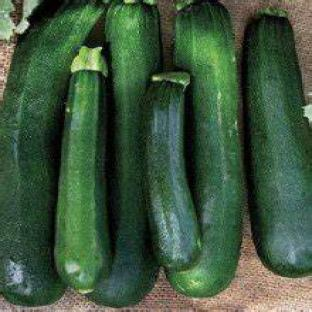Zucchini: (168, 0, 245, 297), (244, 10, 311, 277), (56, 47, 110, 292), (147, 73, 201, 271)
